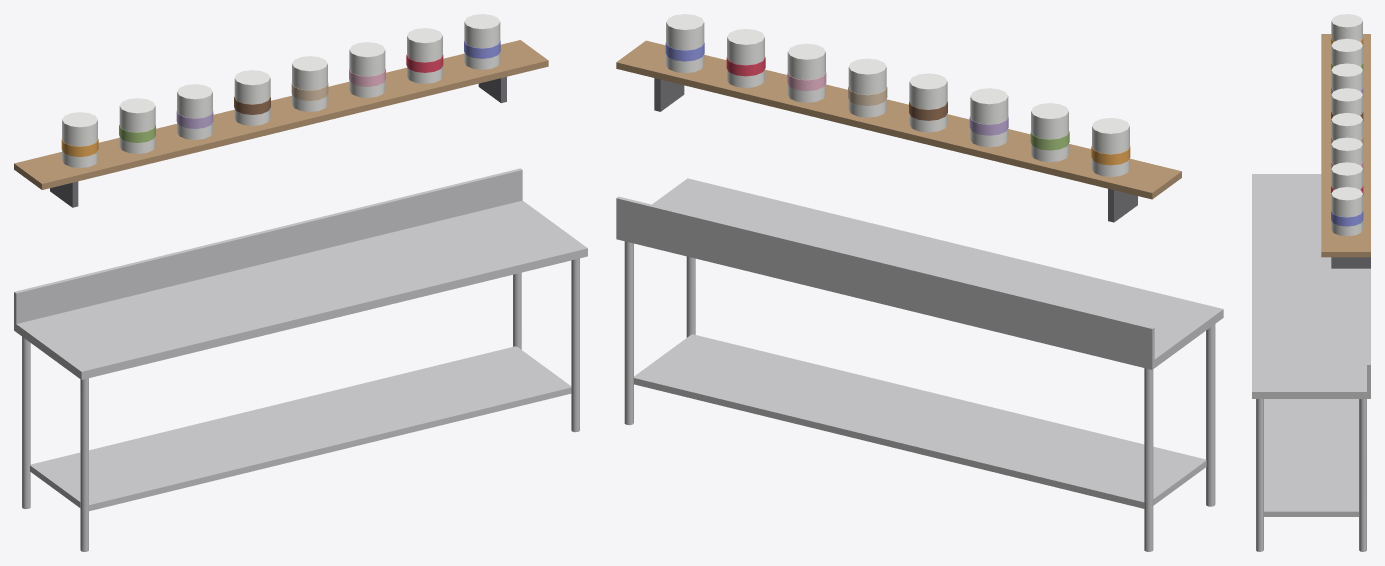
The model's file is SM_BackCounter.fbx.
3 renders of one model, left to right at view 1: azimuth 30°, elevation 25°; view 2: azimuth 150°, elevation 25°; view 3: azimuth 270°, elevation 25°, orthographic. The views are drawn at different scales.
Visible parts, largest first — view 1: BackCounter_Body, Tin_ButterflyPea, Tin_Cocoa, Tin_Matcha, Tin_PinkMilk, Tin_MilkTea, Tin_RedLime, Tin_Taro, Tin_ThaiTea; view 2: BackCounter_Body, Tin_PinkMilk, Tin_ButterflyPea, Tin_Taro, Tin_MilkTea, Tin_Cocoa, Tin_Matcha, Tin_ThaiTea, Tin_RedLime; view 3: BackCounter_Body, Tin_ButterflyPea, Tin_Taro, Tin_ThaiTea, Tin_Cocoa, Tin_PinkMilk, Tin_Matcha, Tin_RedLime, Tin_MilkTea.
Part boxes in pixels (x1,y1,x2,y2): BackCounter_Body: (14, 40, 587, 551); Tin_ButterflyPea: (464, 14, 500, 69); Tin_Cocoa: (234, 70, 270, 125); Tin_Matcha: (119, 98, 155, 153); Tin_PinkMilk: (349, 42, 385, 97); Tin_MilkTea: (291, 56, 328, 111); Tin_RedLime: (406, 28, 443, 83); Tin_Taro: (176, 84, 213, 139); Tin_ThaiTea: (61, 112, 98, 167); BackCounter_Body: (616, 40, 1223, 551); Tin_PinkMilk: (787, 43, 826, 102); Tin_ButterflyPea: (665, 14, 704, 73); Tin_Taro: (969, 88, 1008, 147); Tin_MilkTea: (848, 58, 887, 117); Tin_Cocoa: (909, 73, 947, 132); Tin_Matcha: (1030, 103, 1069, 162); Tin_ThaiTea: (1091, 118, 1130, 176); Tin_RedLime: (726, 29, 765, 87); BackCounter_Body: (1252, 34, 1370, 551); Tin_ButterflyPea: (1331, 187, 1363, 236); Tin_Taro: (1331, 63, 1363, 96); Tin_ThaiTea: (1331, 14, 1363, 46); Tin_Cocoa: (1331, 88, 1363, 120); Tin_PinkMilk: (1331, 137, 1363, 170); Tin_Matcha: (1331, 38, 1363, 71); Tin_RedLime: (1331, 162, 1363, 194); Tin_MilkTea: (1331, 113, 1363, 145).
Bounding box in the file's own units: 2.6 × 1.88 × 0.6.
